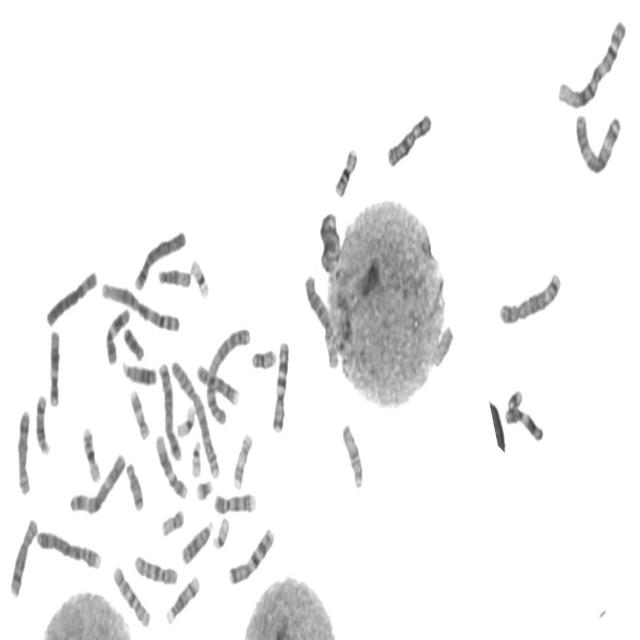A1: (555, 13, 628, 111), (99, 276, 182, 334)
A2: (169, 354, 222, 480), (203, 321, 253, 427)
A3: (67, 447, 128, 516), (573, 106, 624, 176)
B4: (132, 223, 188, 293), (34, 524, 104, 572)
B5: (497, 266, 563, 326), (156, 356, 183, 463)
C10: (110, 560, 152, 629), (132, 549, 180, 587)
C11: (104, 303, 132, 367), (503, 402, 545, 443)
C12: (153, 428, 190, 501), (47, 325, 62, 409)
C6: (302, 268, 341, 370), (44, 264, 100, 328)
C7: (226, 522, 276, 586), (270, 335, 292, 435)
C8: (7, 513, 40, 600), (15, 402, 33, 498)
C9: (194, 358, 241, 407), (211, 487, 258, 516)
D13: (179, 516, 215, 566), (120, 355, 158, 387)
D14: (164, 570, 202, 626), (33, 389, 52, 457)
D15: (339, 417, 366, 492), (156, 264, 193, 288)
E16: (333, 142, 359, 198), (80, 421, 103, 484)
E17: (230, 427, 254, 491), (128, 384, 152, 442)
E18: (124, 456, 146, 513), (121, 322, 145, 362)
F19: (188, 253, 212, 300), (174, 399, 197, 439)
F20: (160, 504, 186, 538), (249, 343, 278, 371)
G21: (193, 474, 214, 502), (504, 384, 525, 412)
G22: (210, 512, 231, 551), (189, 435, 204, 479)
X: (384, 106, 434, 169)
